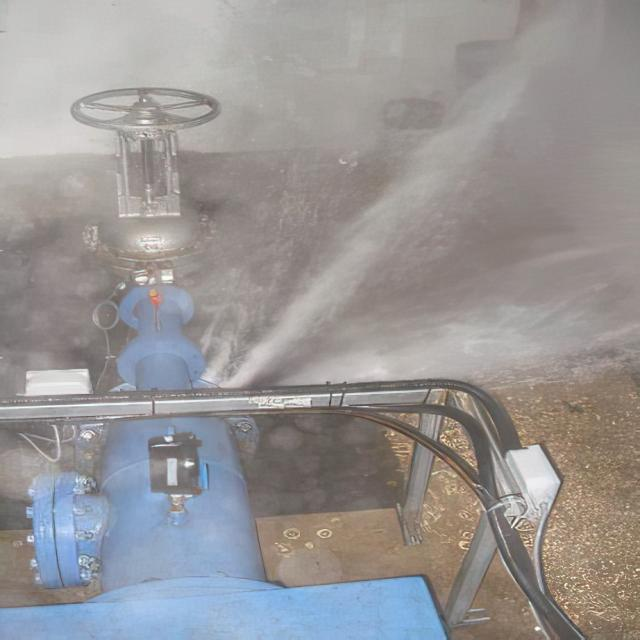leak: (201, 0, 640, 389)
